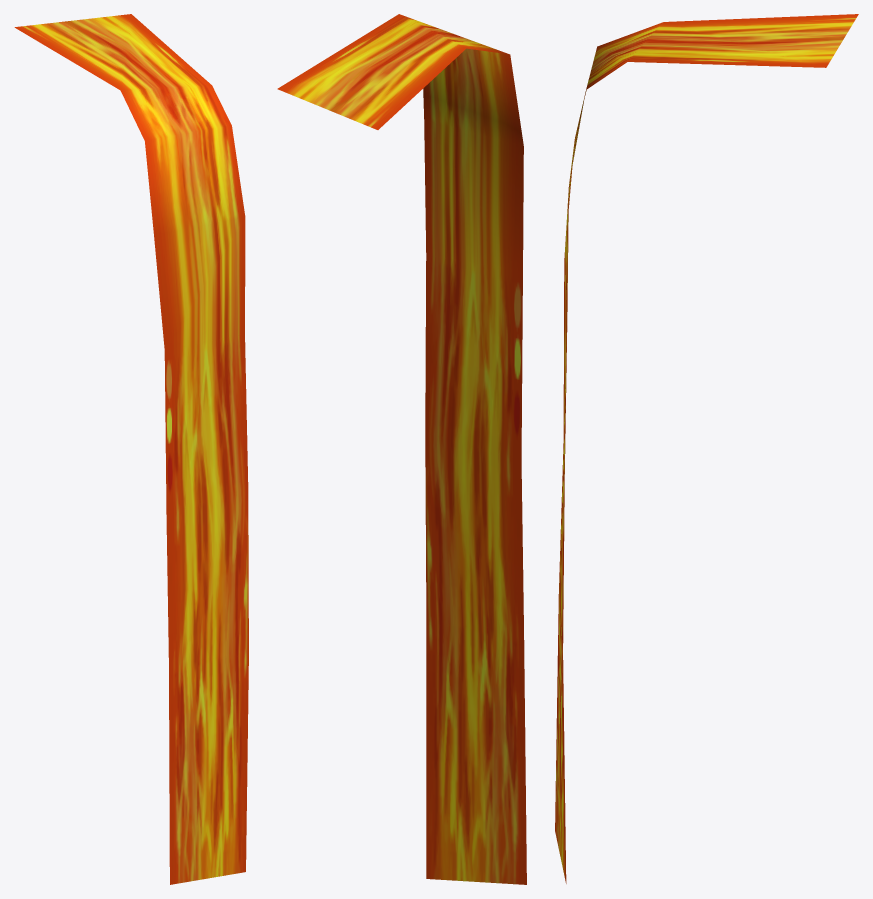
The model's file is 10405_magma01.FBX.
3 renders of one model, left to right at view 1: azimuth 30°, elevation 25°; view 2: azimuth 150°, elevation 25°; view 3: azimuth 270°, elevation 25°, orthographic. The views are drawn at different scales.
Visible parts, largest first — view 1: 10405_magma01; view 2: 10405_magma01; view 3: 10405_magma01.
Boxes of the visible parts, <box> form: 10405_magma01: <box>14,14,248,884</box>; 10405_magma01: <box>277,14,526,884</box>; 10405_magma01: <box>555,14,858,883</box>.
Size of the model in its own units: 411 by 2949 by 989.
